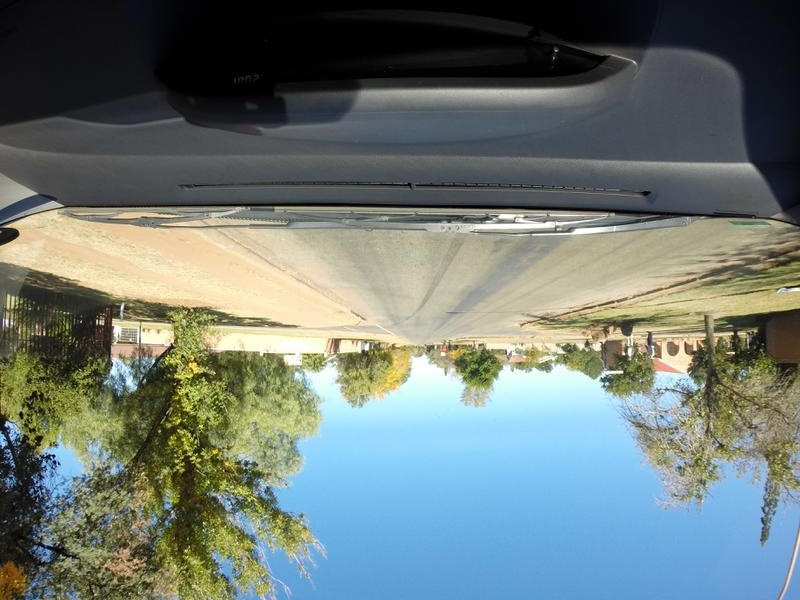pothole: (448, 309, 470, 314)
